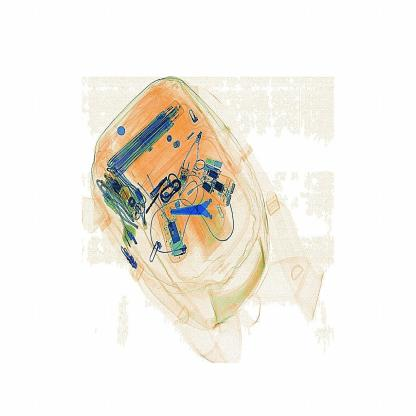gun: (166, 176, 246, 241)
